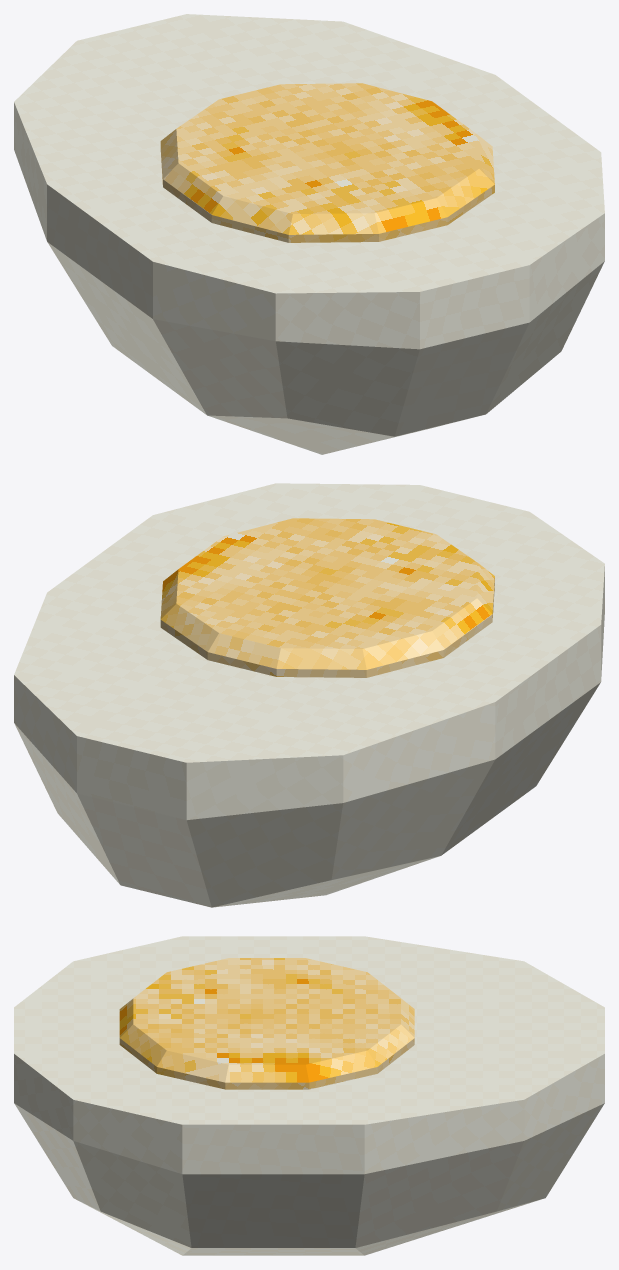
Rendered from egg_stage1.fbx.
The picture shows the model from 3 angles, top to bottom: view 1: azimuth 30°, elevation 25°; view 2: azimuth 150°, elevation 25°; view 3: azimuth 270°, elevation 25°; orthographic projection. The views are drawn at different scales.
Visible parts, largest first — view 1: Egg, Yolk; view 2: Egg, Yolk; view 3: Egg, Yolk.
Boxes of the visible parts, x1,y1,x2,y2 form: Egg: (14, 14, 604, 454); Yolk: (160, 83, 494, 242); Egg: (14, 483, 604, 907); Yolk: (160, 518, 494, 677); Egg: (14, 936, 604, 1255); Yolk: (119, 958, 414, 1089).
Size of the model in its own units: 1225 by 1624 by 671.
